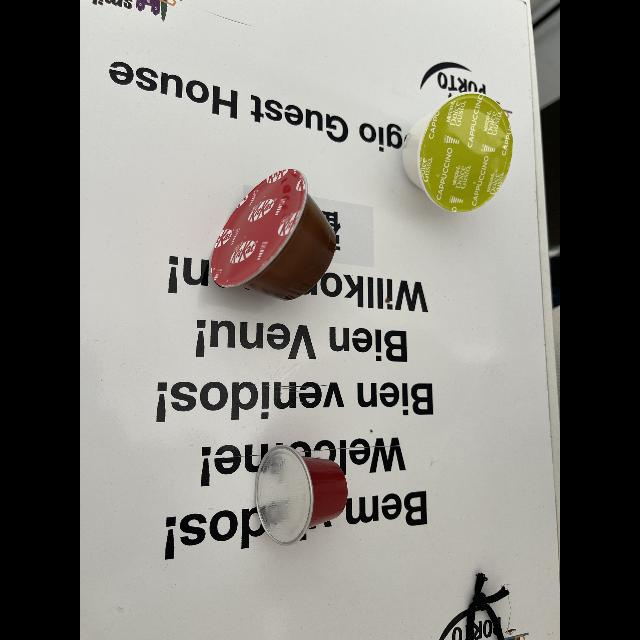intact_capsule: (201, 162, 339, 318), (394, 85, 524, 223), (248, 436, 358, 552)
